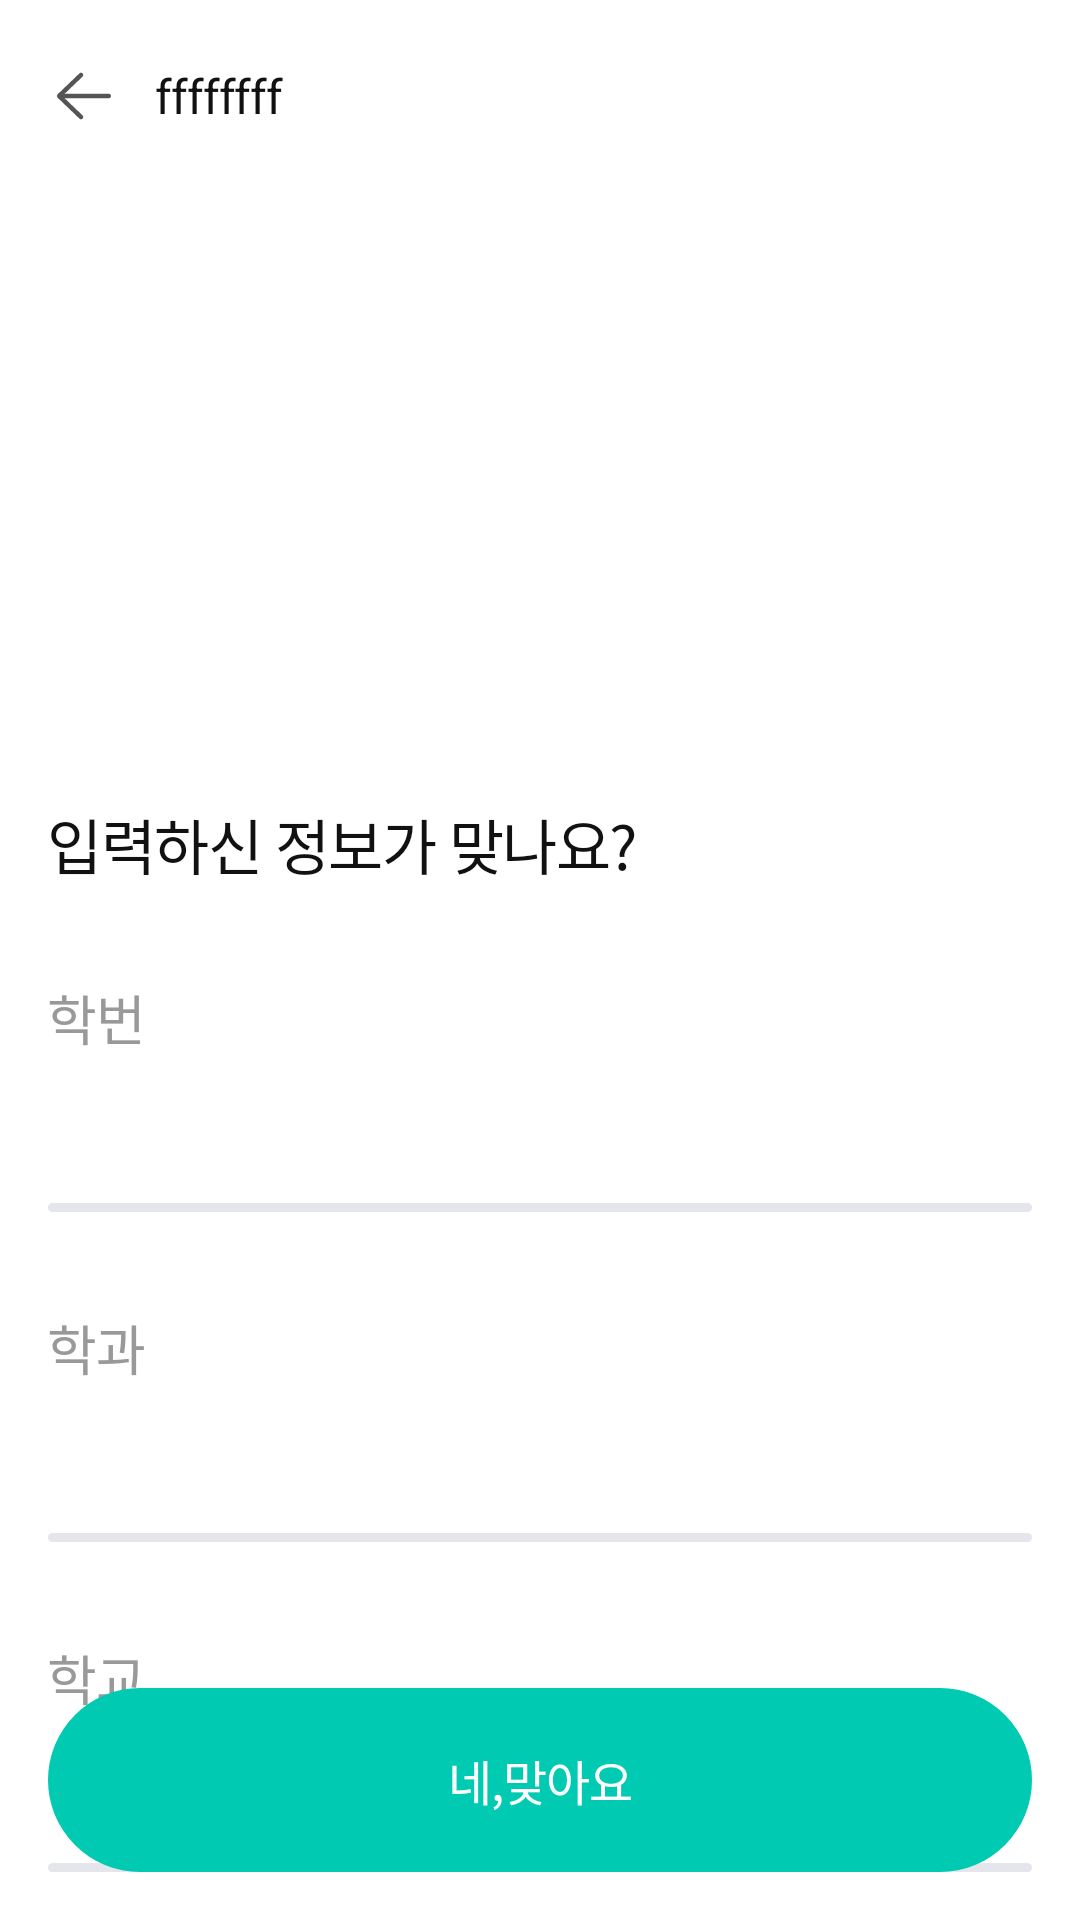

Icon bounding boxes for this 1080px×1920px phone screenshot, format [x1, y1, x2, y2]:
back: [57, 72, 111, 120]
